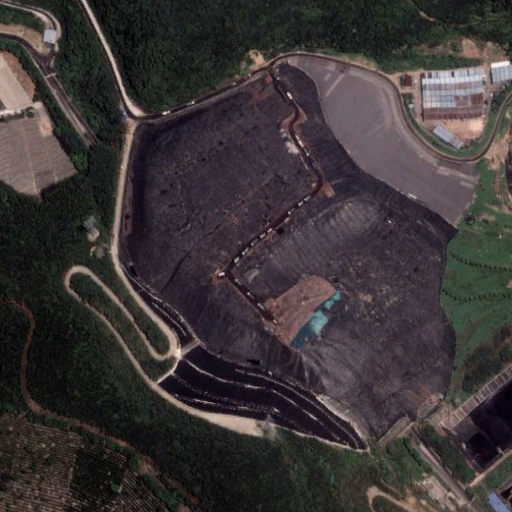lf: (118, 53, 479, 451)
